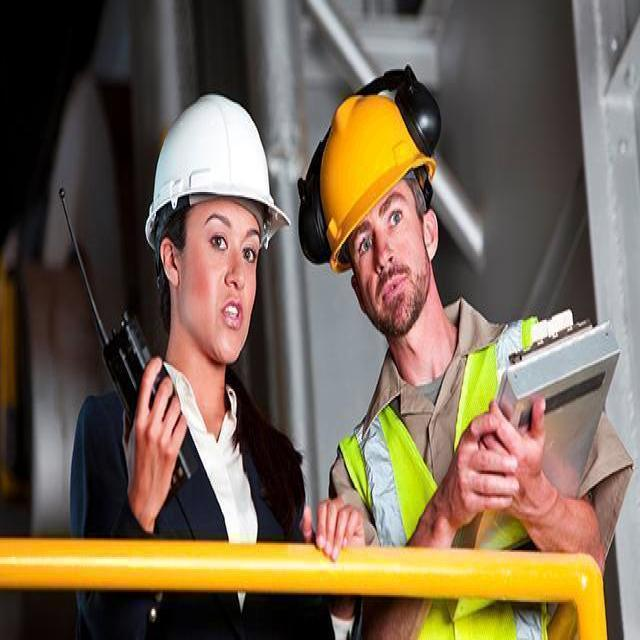face_nomask: (182, 204, 261, 375), (338, 200, 430, 316)
hand_noglove: (126, 362, 187, 531), (437, 412, 520, 528), (302, 498, 363, 571)
head_helmet: (147, 93, 284, 244), (316, 94, 427, 240)
person: (308, 79, 628, 640), (70, 85, 302, 633)
vest: (346, 320, 555, 640)
